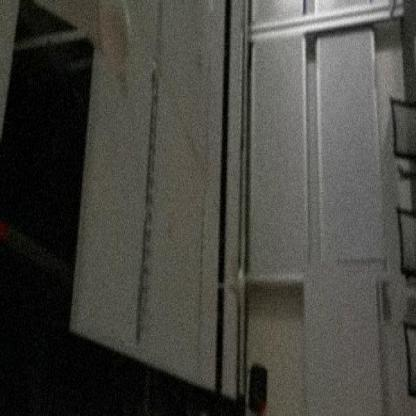light_off: (131, 42, 163, 353), (192, 176, 209, 370)
